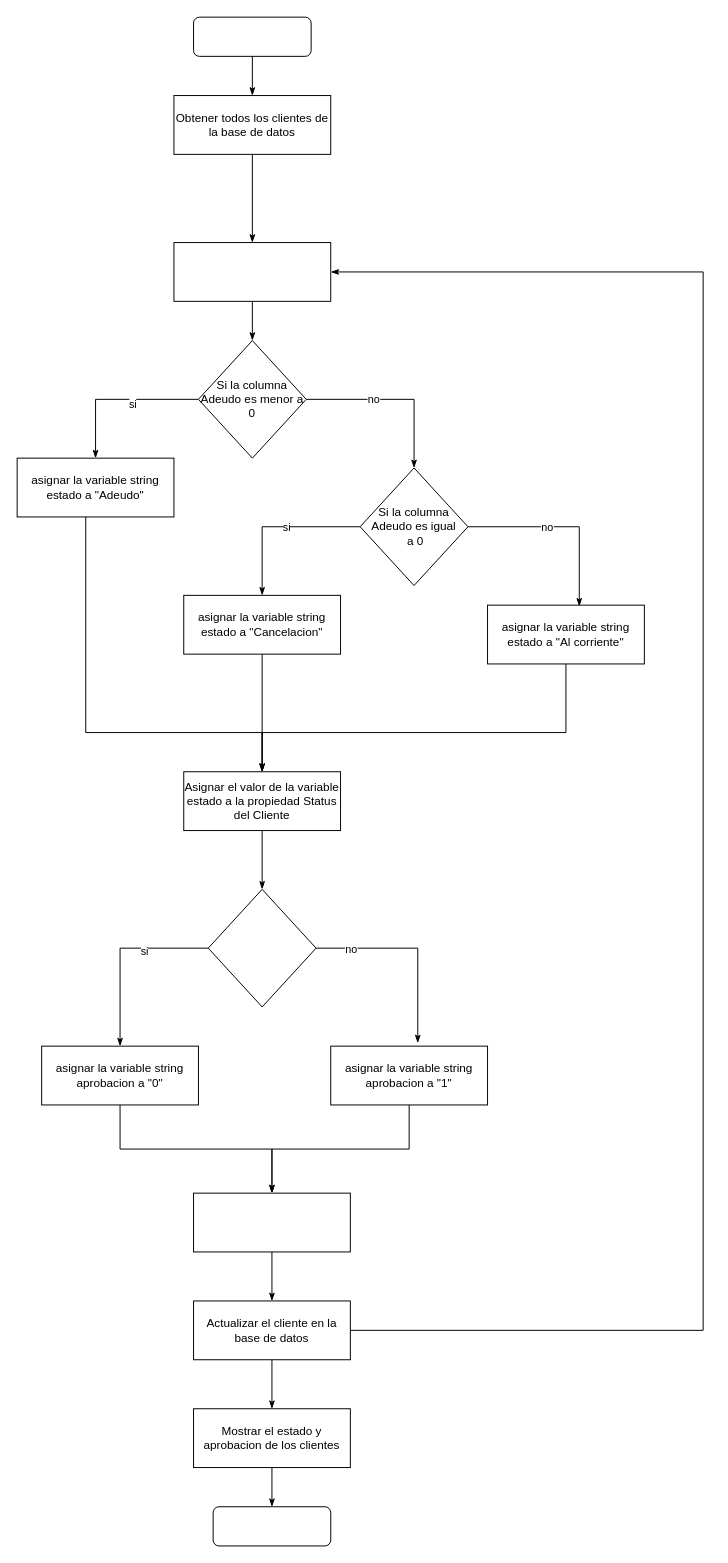
Some shapes in this 728 by 1563 pixel diagram are drawn without their labels. Here are the shapes that lost their labels. From the top down, the centre of each, then its label:
point 252,36: Inicio
point 252,271: Para cada cliente, obtener un objeto Ajuste de la tabla Ajustes de la BD
point 261,947: Si la variable estado es igual a "Cancelacion"
point 271,1222: Asignar el valor de la variable aprobacion a la propiedad Aprobacion del Cliente
point 271,1526: Fin
